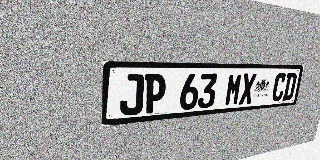3: (197, 74, 218, 109)
6: (179, 74, 201, 110)
C: (271, 73, 287, 102)
D: (282, 73, 298, 101)
J: (119, 74, 144, 116)
M: (224, 73, 243, 106)
P: (143, 74, 167, 114)
X: (239, 73, 257, 105)
